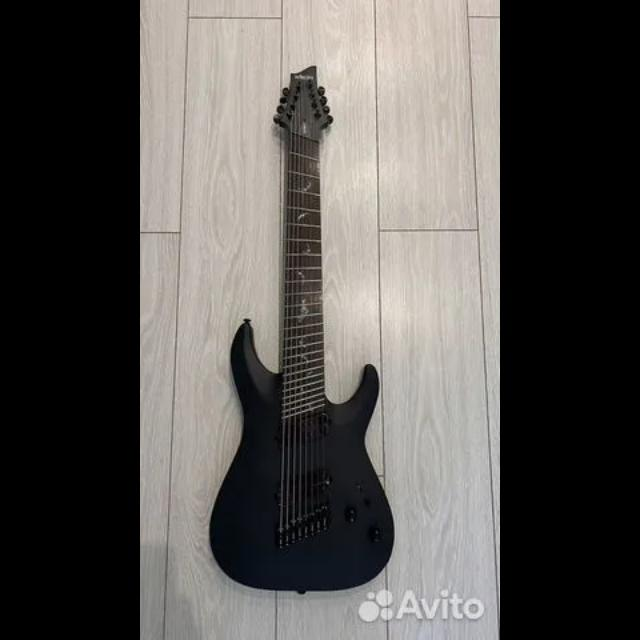Electric-Guitar: (210, 66, 394, 594)
